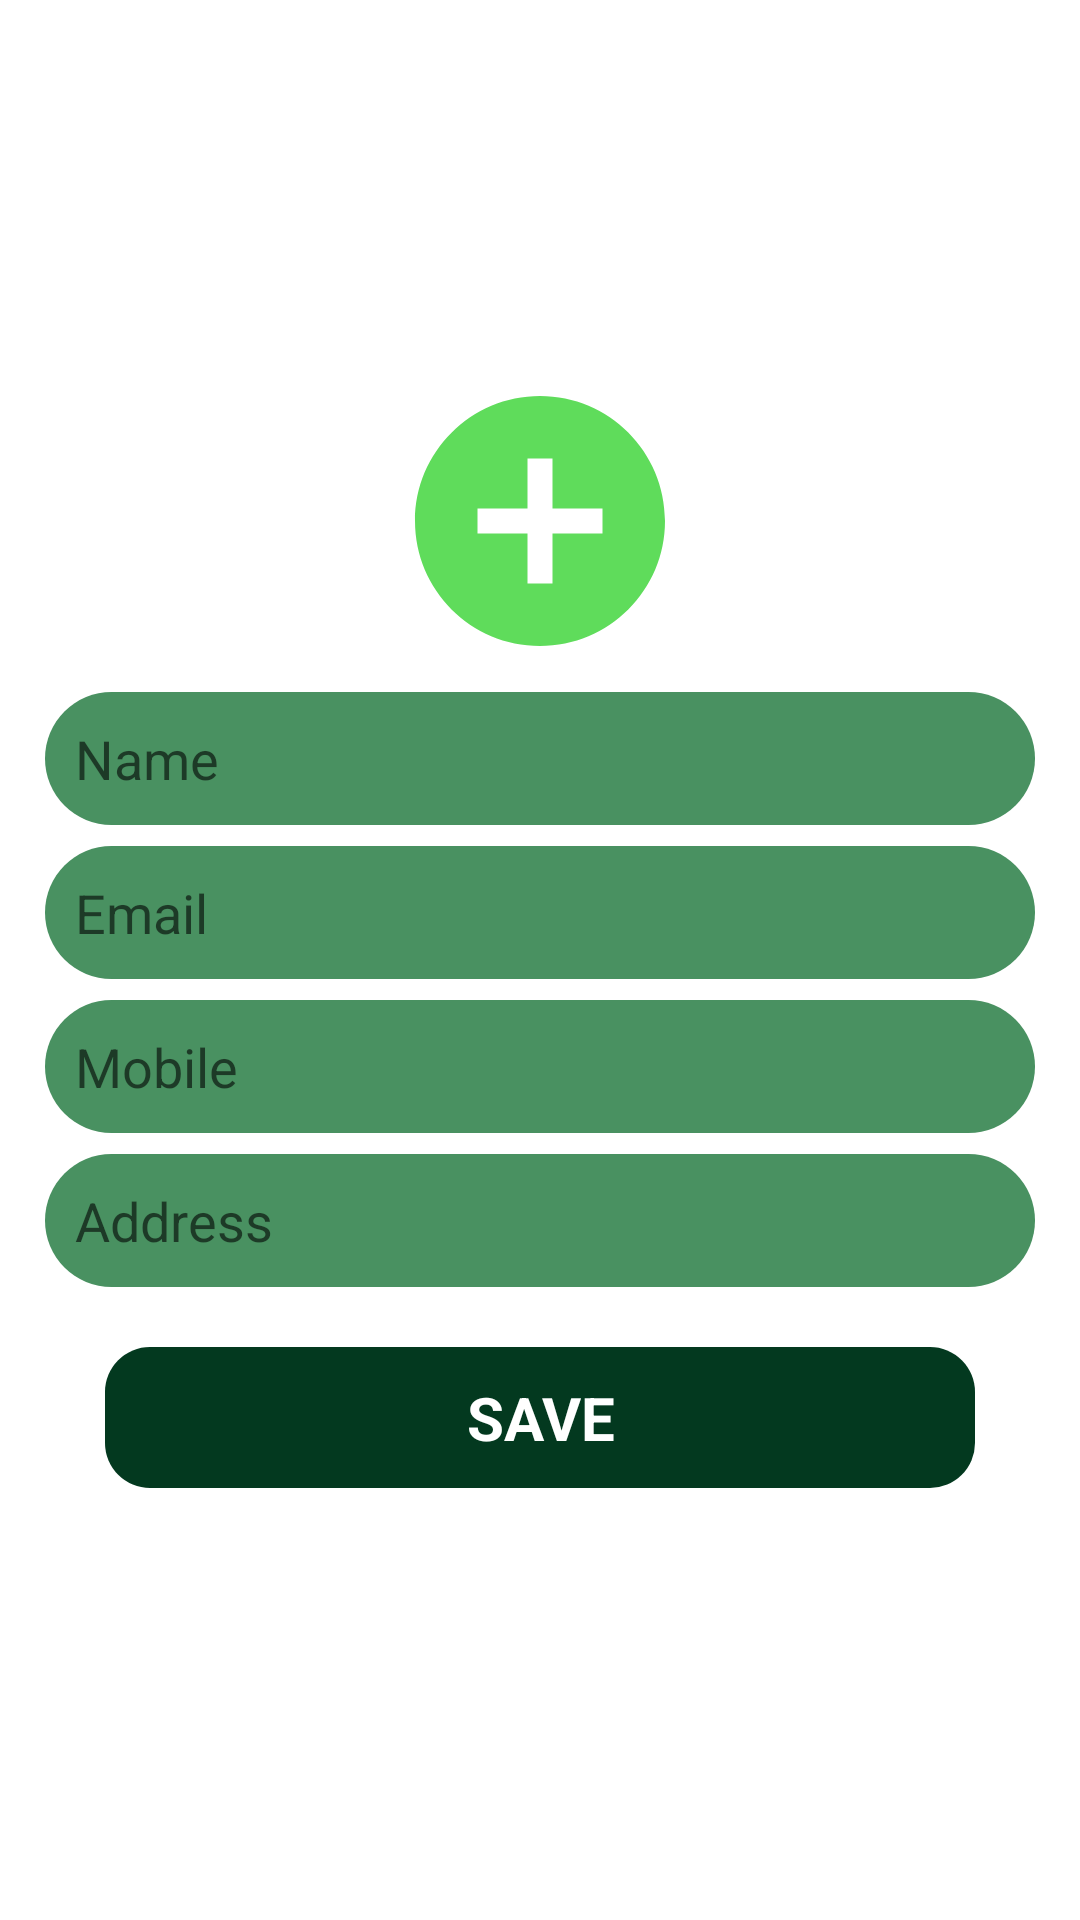

Where icons sit on this 1080 x 1920 app screen, as {"x1": x1, "y1": y1, "x2": x2, "y2": y2}:
add: {"x1": 415, "y1": 396, "x2": 665, "y2": 646}
